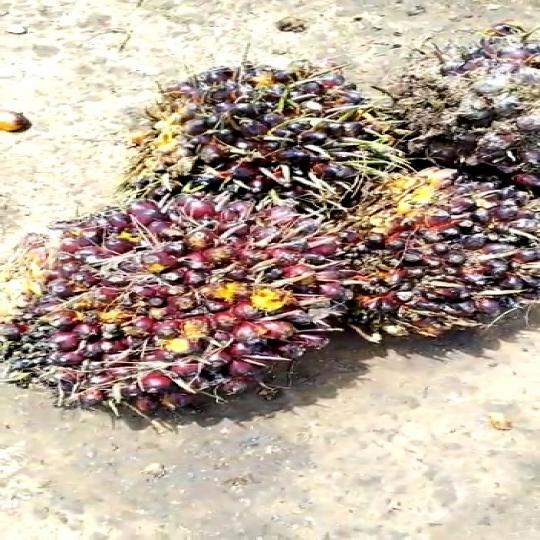kurang masak: (0, 196, 350, 425), (313, 178, 536, 357), (118, 60, 376, 199)
